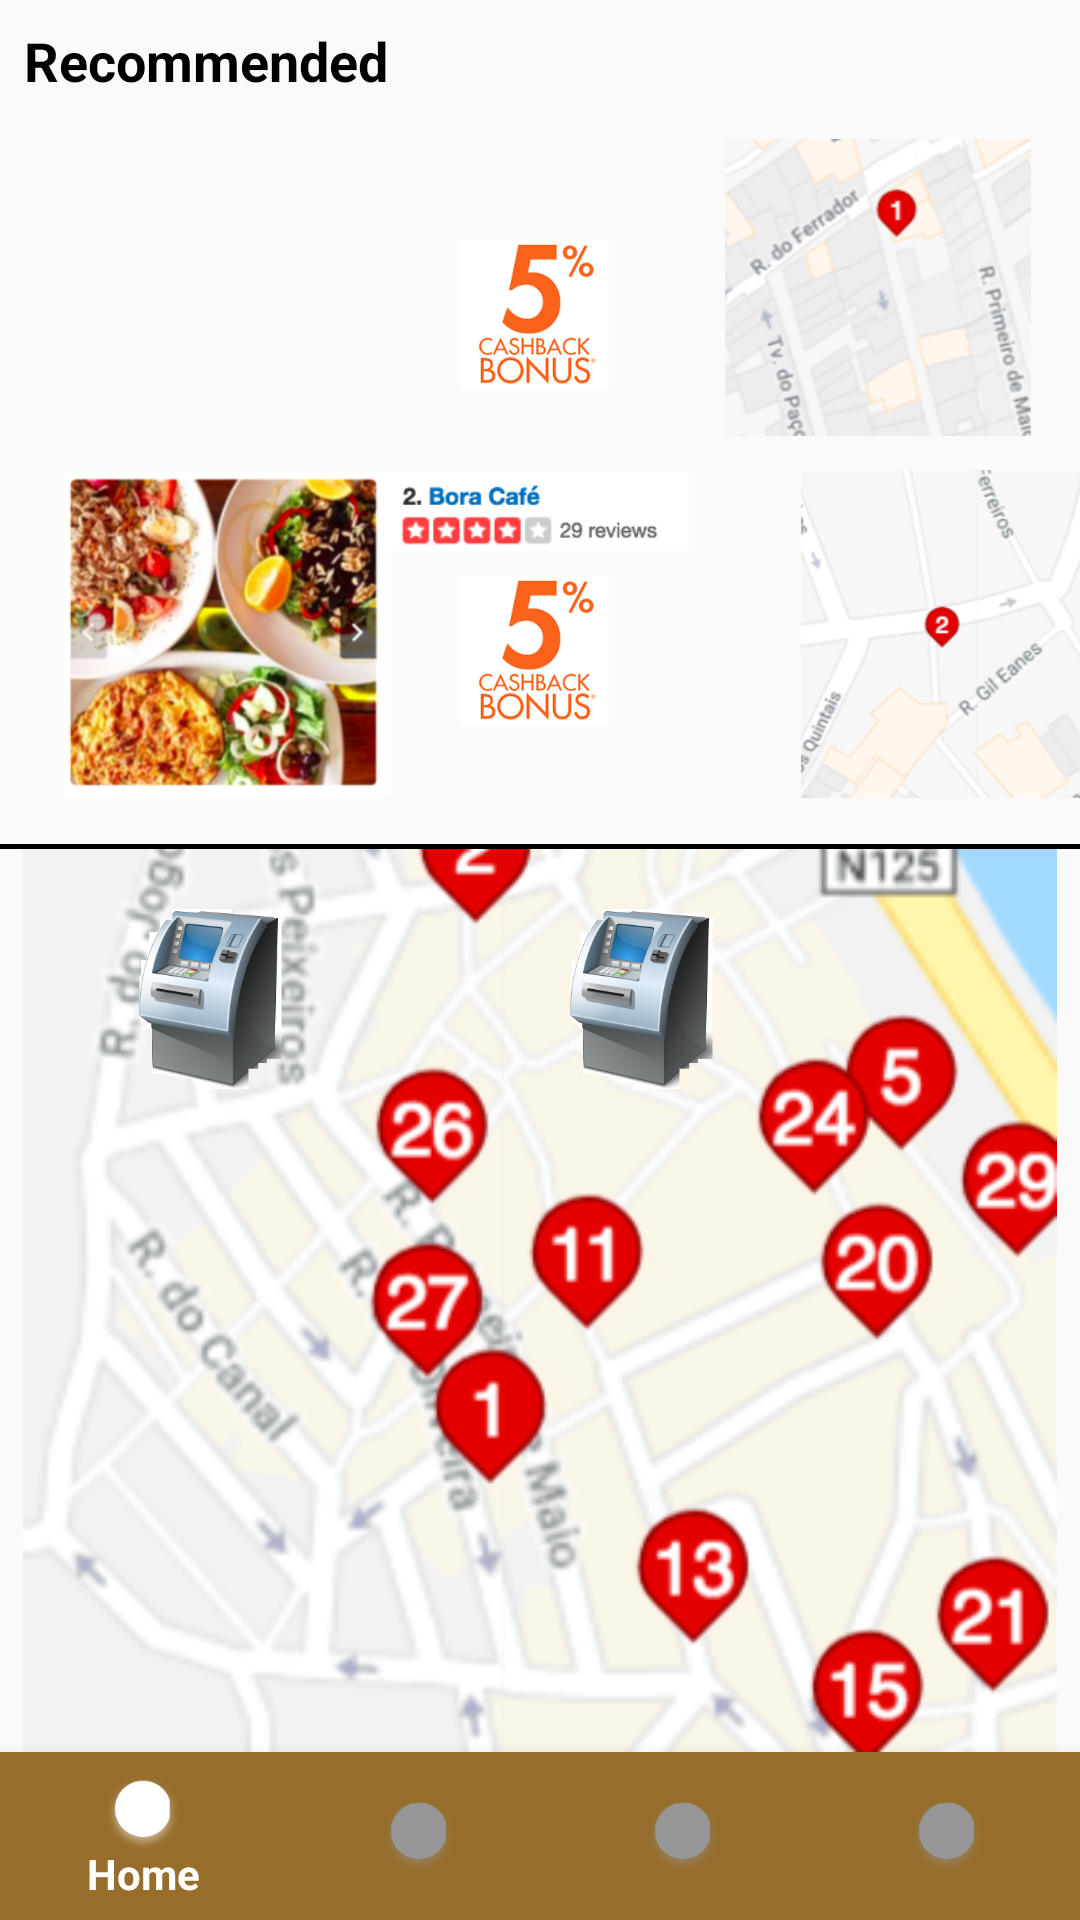

Icons on this 1080x1920 Android screen, each with the point to tap as point (x, y):
atm: point (208, 998), point (655, 999)
